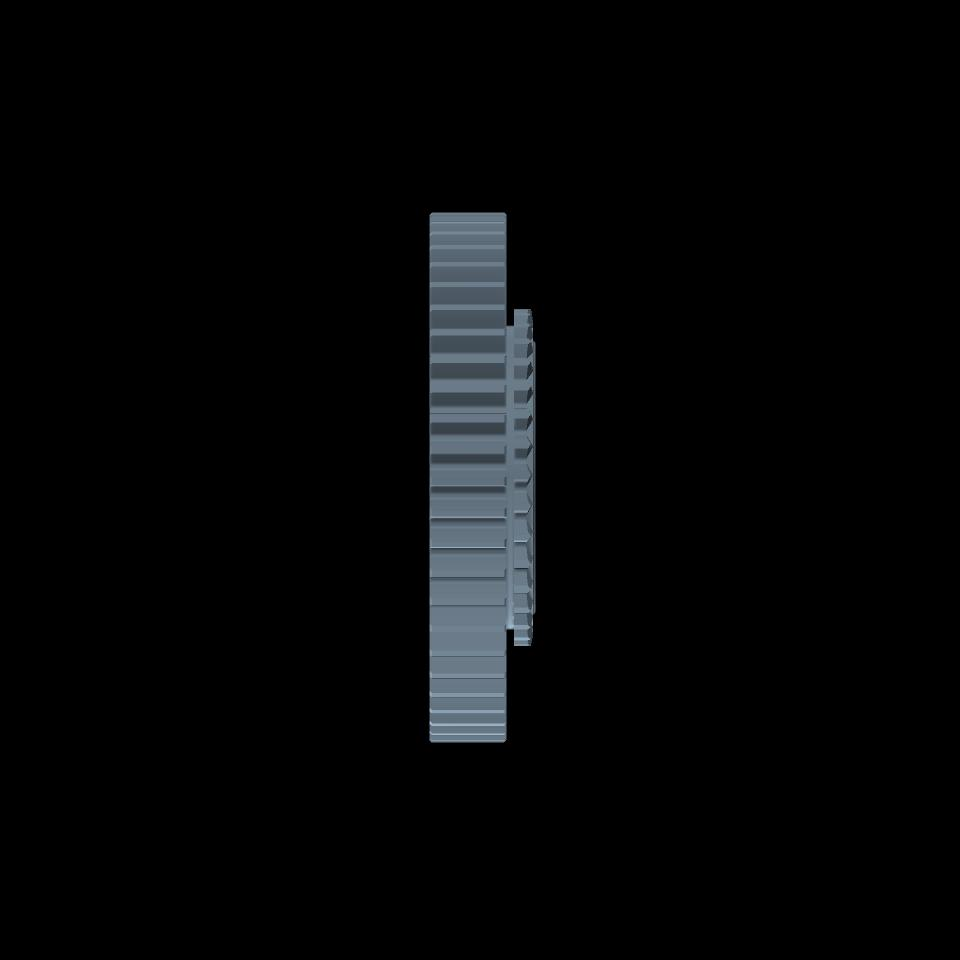Straight: (429, 213, 504, 741), (515, 309, 526, 644)
